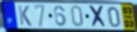0: (106, 6, 123, 28), (70, 5, 85, 28)
6: (53, 5, 68, 27)
7: (34, 3, 47, 28)
K: (17, 5, 33, 28)
X: (88, 5, 109, 29)
